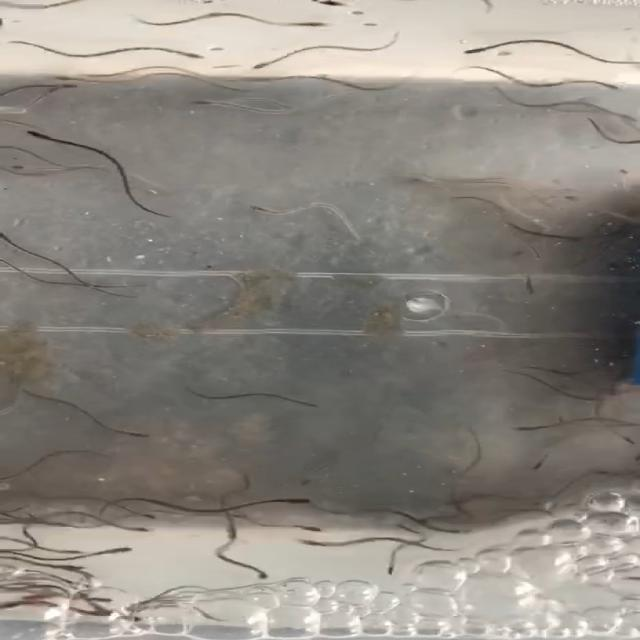active_glass_eel: (258, 506, 330, 540), (238, 59, 310, 76), (232, 196, 284, 218), (463, 29, 508, 54), (120, 499, 174, 519), (427, 517, 479, 537), (19, 124, 75, 142), (524, 452, 566, 476), (0, 105, 36, 132), (9, 153, 51, 174), (378, 556, 427, 574), (286, 16, 334, 34), (175, 44, 226, 60), (245, 90, 288, 108), (247, 559, 279, 583), (119, 598, 157, 618), (83, 542, 136, 556), (517, 420, 556, 439), (276, 491, 311, 511), (293, 70, 336, 85), (189, 99, 237, 111), (208, 63, 252, 76), (125, 523, 155, 542), (100, 71, 140, 85), (280, 399, 320, 412), (594, 78, 628, 92), (124, 428, 157, 442), (514, 9, 551, 21), (21, 80, 44, 98)
